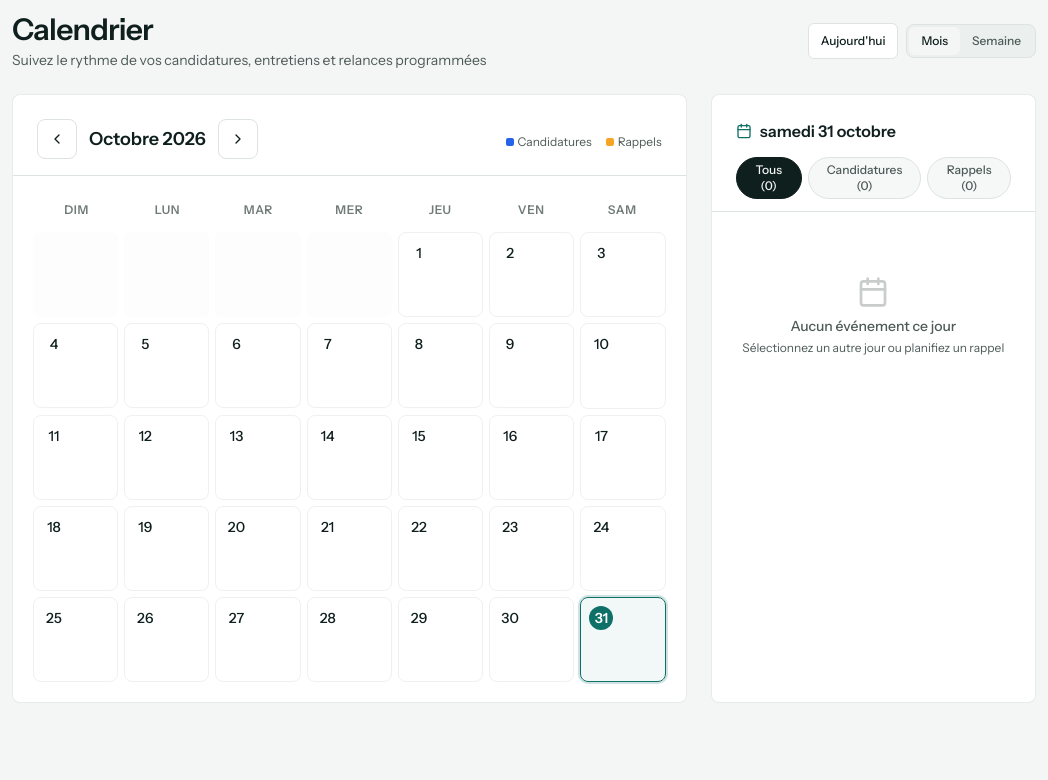
Page: CalendarPage › switches between Month and Week views
What coordinates should you click on to do the following:
click the button "Semaine"
I would click on:
 (997, 41)
Its box is [960, 27, 1033, 55].
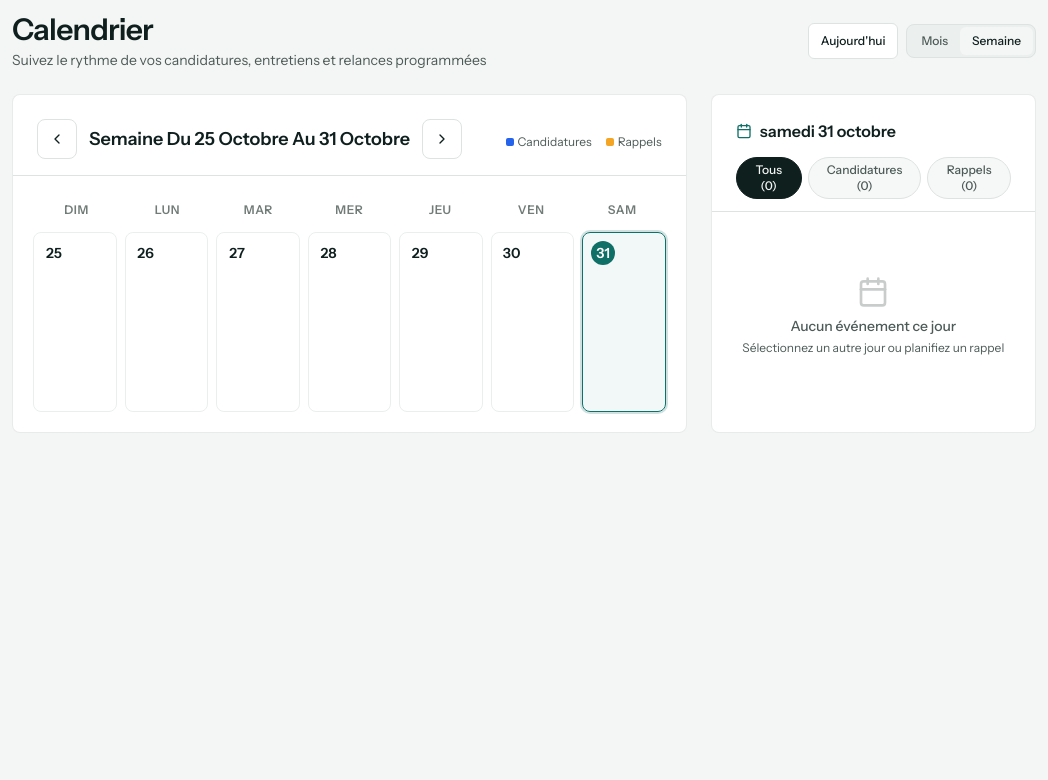
Now the heading "Semaine du 25 Octobre au 31 Octobre" is shown, box [89, 125, 410, 153]
What coordinates should you click on to do the following:
click the button "Mois"
I would click on:
 (935, 41)
Its box is [909, 27, 960, 55].
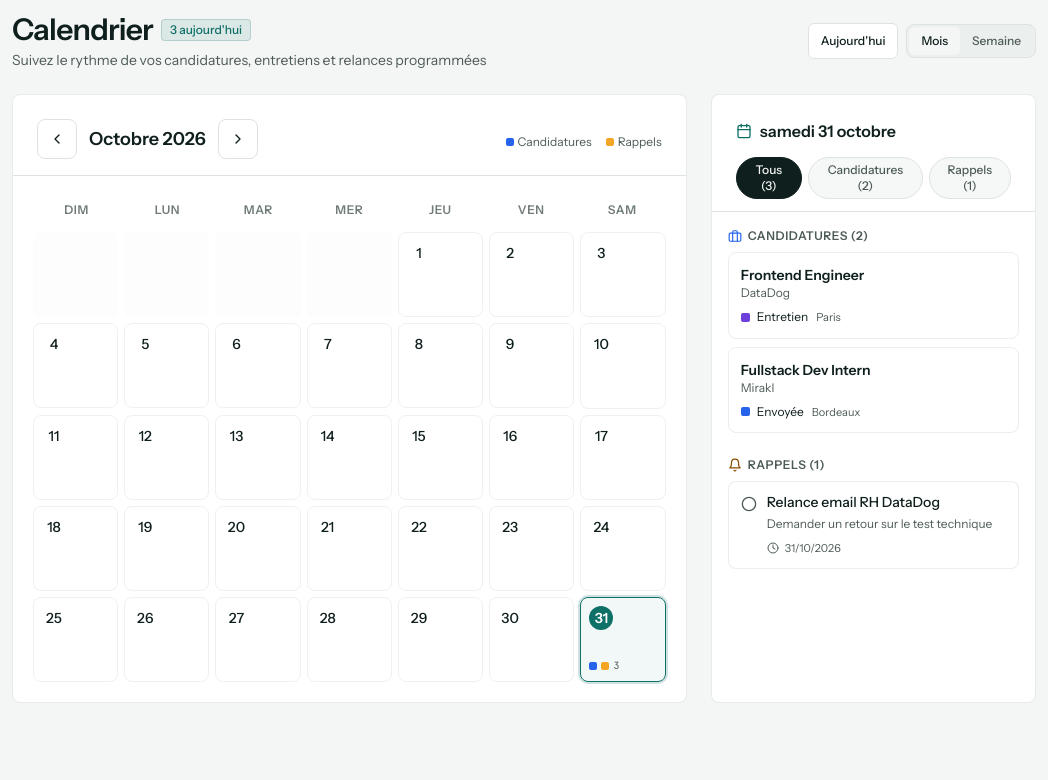
Now the heading "Semaine du" is gone
